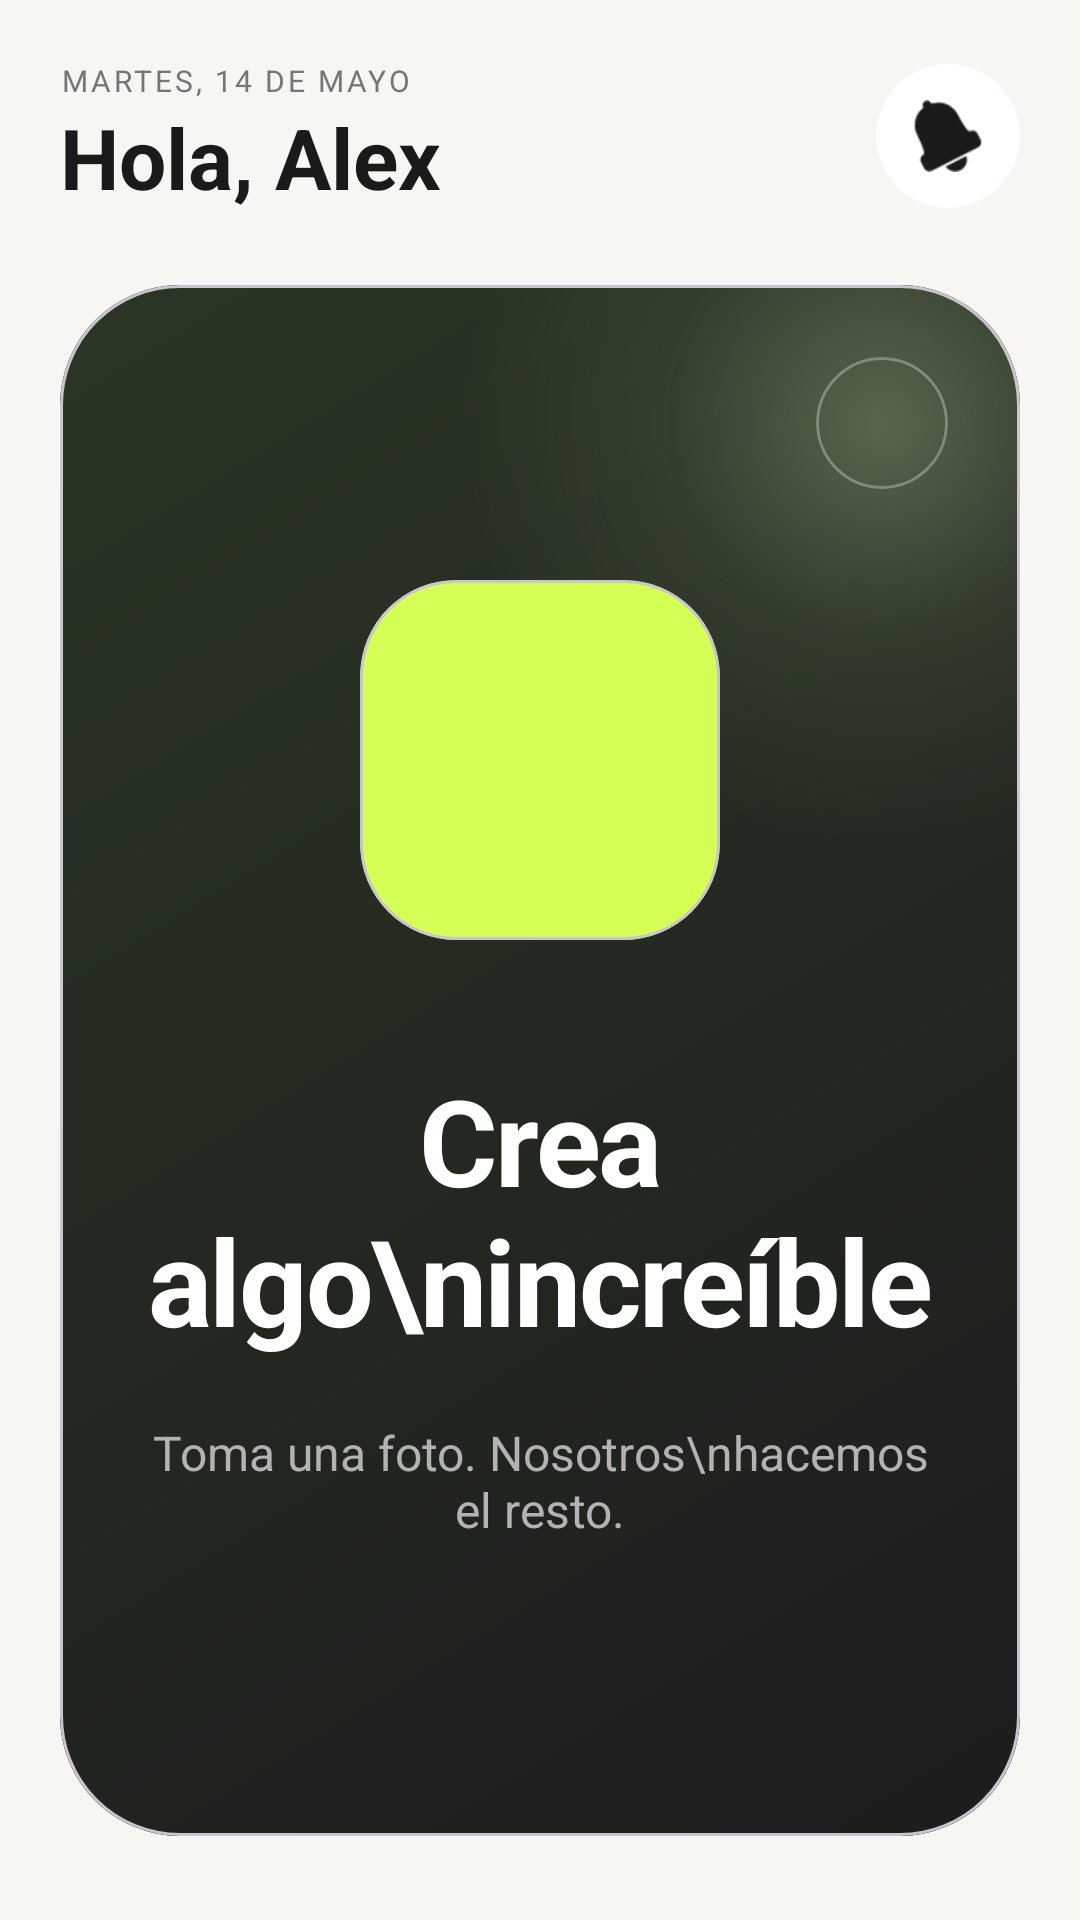

Locate icon controls on the screen. Image size 1080x1920, boxes as (x1, y1, x2, y2).
popup reminder: (914, 100, 982, 172)
